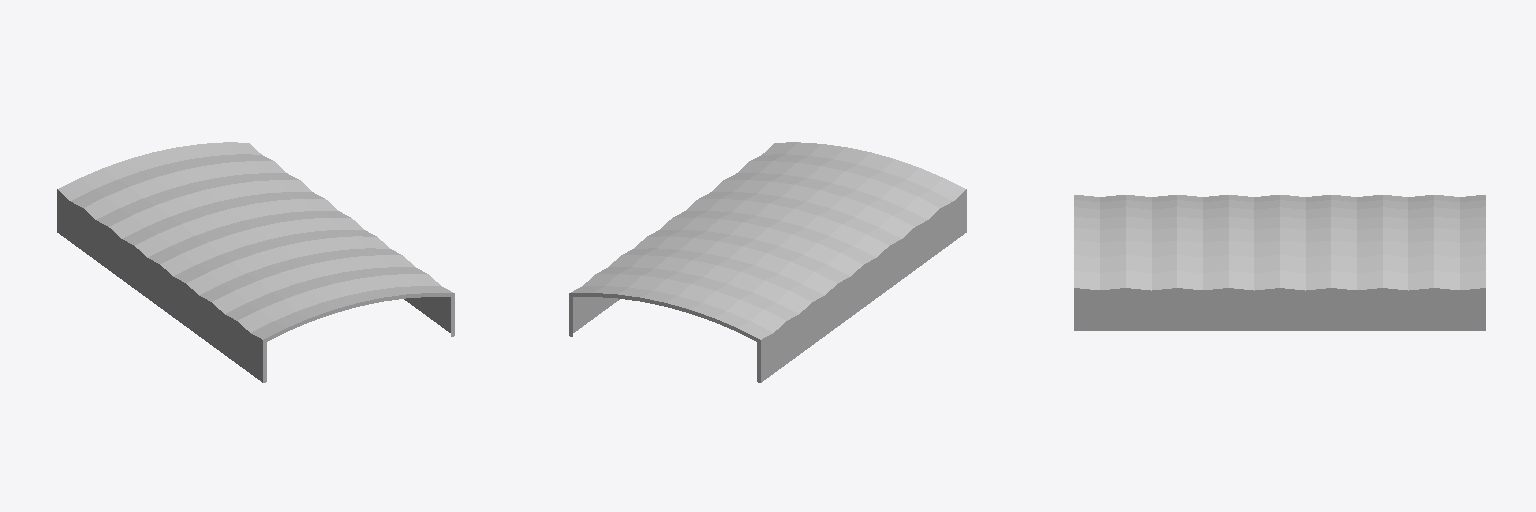
The model's file is foil tunnel tarp.obj.
3 views of the same model, side by side, from view 1: azimuth 30°, elevation 25°; view 2: azimuth 150°, elevation 25°; view 3: azimuth 270°, elevation 25° (orthographic).
Parts seen in each view (by area): view 1: foil_tunnel_tarp; view 2: foil_tunnel_tarp; view 3: foil_tunnel_tarp.
Part boxes in pixels (x1,y1,x2,y2): foil_tunnel_tarp: (57,142,454,382); foil_tunnel_tarp: (569,142,966,382); foil_tunnel_tarp: (1074,195,1485,330).
Size of the model in its own units: 12.89 by 3.67 by 23.97.